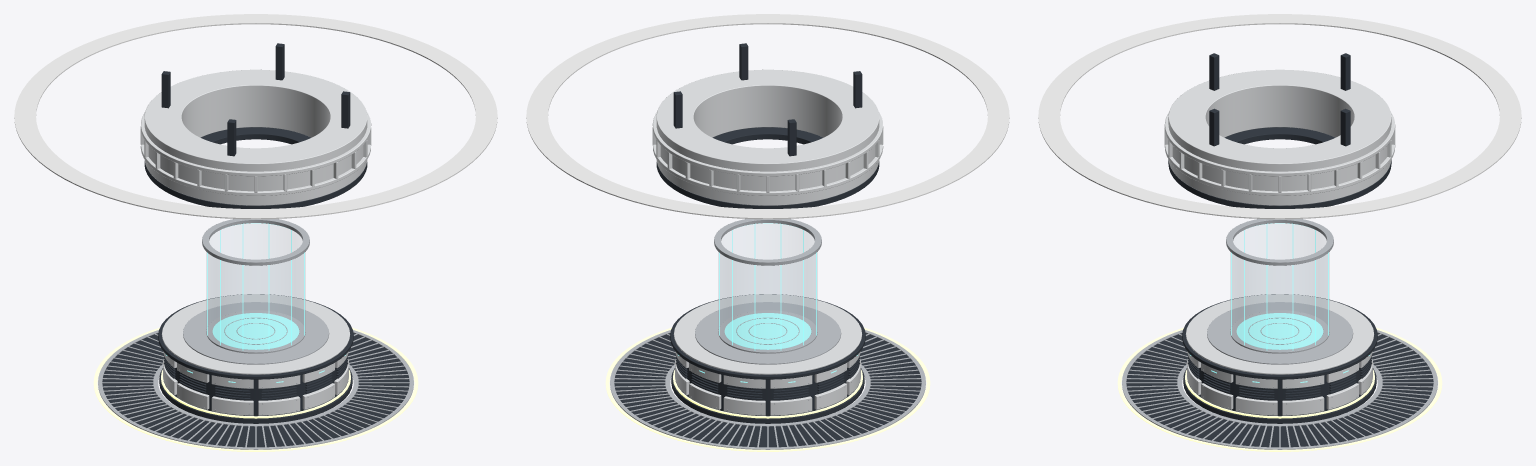
File: CentralDevice.fbx
The picture shows the model from 3 angles, left to right: view 1: azimuth 30°, elevation 25°; view 2: azimuth 150°, elevation 25°; view 3: azimuth 270°, elevation 25°; orthographic projection.
Parts seen in each view (by area): view 1: CL_CeilingDrum, CL_CeilingHalo, CL_FloorGrateBase, CL_HoloGlass, CL_FloorGrateBars, CL_TableMetal, CL_Deck, CL_PedestalPanels, CL_CeilingUnder, CL_Plinth, CL_HoloEmitter, CL_PedestalVents (+5 smaller); view 2: CL_CeilingDrum, CL_CeilingHalo, CL_FloorGrateBase, CL_HoloGlass, CL_FloorGrateBars, CL_TableMetal, CL_Deck, CL_PedestalPanels, CL_CeilingUnder, CL_Plinth, CL_HoloEmitter, CL_PedestalVents (+5 smaller); view 3: CL_CeilingDrum, CL_CeilingHalo, CL_FloorGrateBase, CL_HoloGlass, CL_FloorGrateBars, CL_TableMetal, CL_Deck, CL_PedestalPanels, CL_CeilingUnder, CL_Plinth, CL_HoloEmitter, CL_PedestalVents (+5 smaller).
Boxes of the visible parts, box(x1,y1,x2,y2) form: CL_CeilingDrum: box(140, 69, 371, 205); CL_CeilingHalo: box(14, 14, 497, 219); CL_FloorGrateBase: box(102, 333, 409, 447); CL_HoloGlass: box(206, 224, 305, 351); CL_FloorGrateBars: box(98, 330, 413, 449); CL_TableMetal: box(183, 302, 328, 364); CL_Deck: box(161, 294, 350, 374); CL_PedestalPanels: box(163, 351, 348, 415); CL_CeilingUnder: box(144, 43, 367, 208); CL_Plinth: box(158, 294, 353, 423); CL_HoloEmitter: box(212, 313, 299, 349); CL_PedestalVents: box(164, 355, 347, 400); CL_CeilingDrum: box(652, 69, 883, 205); CL_CeilingHalo: box(526, 14, 1009, 219); CL_FloorGrateBase: box(614, 333, 921, 447); CL_HoloGlass: box(718, 224, 817, 351); CL_FloorGrateBars: box(610, 330, 925, 449); CL_TableMetal: box(695, 302, 840, 364); CL_Deck: box(673, 294, 862, 374); CL_PedestalPanels: box(675, 351, 860, 415); CL_CeilingUnder: box(656, 43, 879, 208); CL_Plinth: box(670, 294, 865, 423); CL_HoloEmitter: box(724, 313, 811, 349); CL_PedestalVents: box(676, 355, 859, 400); CL_CeilingDrum: box(1164, 69, 1395, 205); CL_CeilingHalo: box(1038, 14, 1521, 219); CL_FloorGrateBase: box(1126, 333, 1433, 447); CL_HoloGlass: box(1230, 224, 1329, 351); CL_FloorGrateBars: box(1122, 330, 1437, 449); CL_TableMetal: box(1207, 302, 1352, 364); CL_Deck: box(1185, 294, 1374, 374); CL_PedestalPanels: box(1187, 351, 1372, 415); CL_CeilingUnder: box(1168, 53, 1391, 208); CL_Plinth: box(1182, 294, 1377, 423); CL_HoloEmitter: box(1236, 313, 1323, 349); CL_PedestalVents: box(1188, 355, 1371, 400).
Size of the model in its own units: 7.8 by 5.35 by 7.8.
